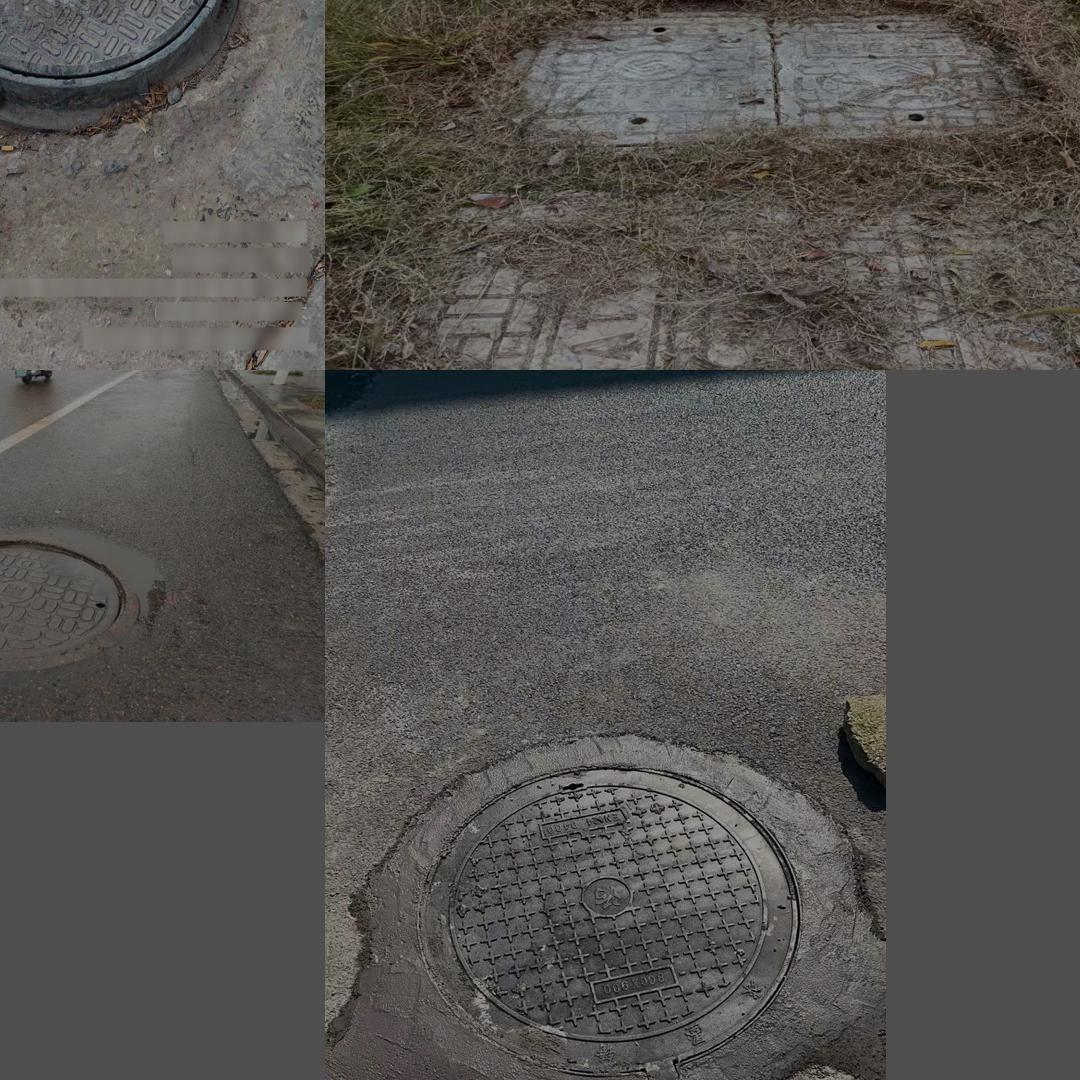good: (336, 733, 878, 1080), (509, 10, 1023, 142), (0, 521, 176, 676), (0, 0, 231, 87)
